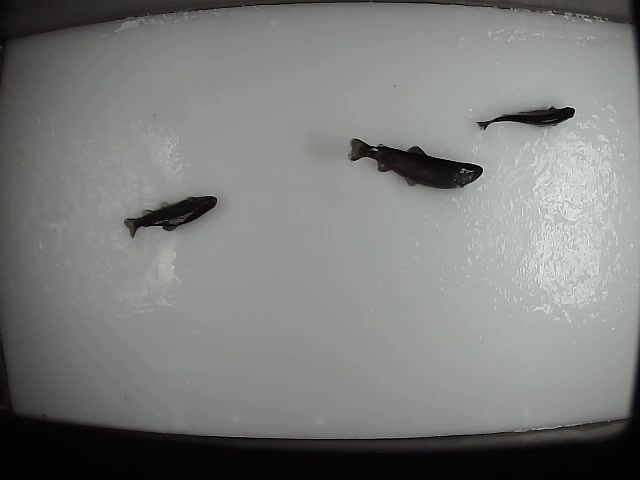fish: (345, 134, 483, 192), (121, 193, 219, 240), (476, 102, 585, 134)
